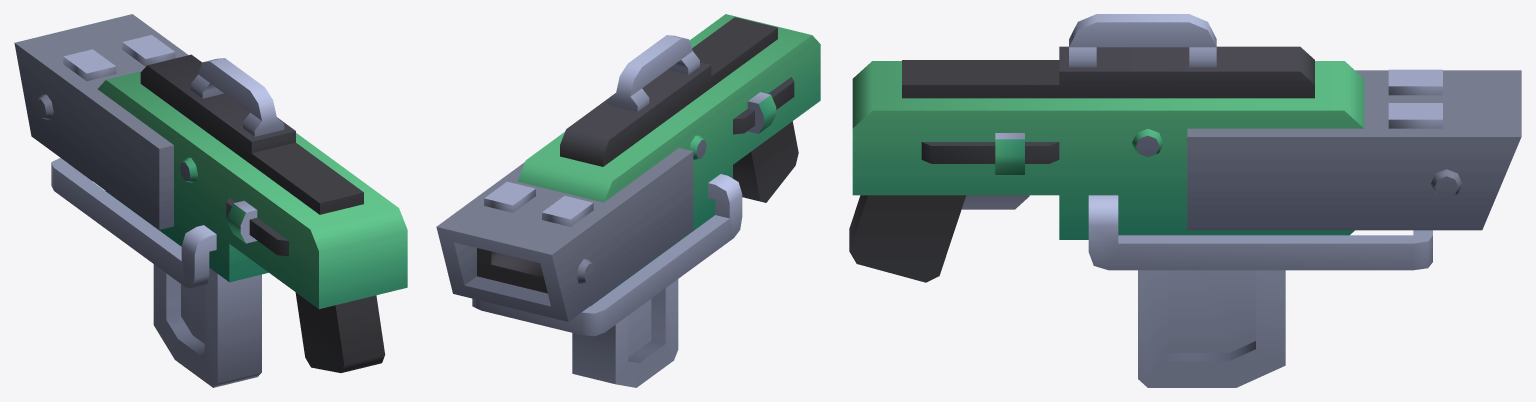
The model's file is blaster-r.glb.
3 views of the same model, side by side, from view 1: azimuth 30°, elevation 25°; view 2: azimuth 150°, elevation 25°; view 3: azimuth 270°, elevation 25° (orthographic). The views are drawn at different scales.
Visible parts, largest first — view 1: blaster-r, magazine; view 2: blaster-r, magazine; view 3: blaster-r, magazine.
Part boxes in pixels (bbox=[...]): blaster-r: bbox=[14, 14, 407, 372]; magazine: bbox=[153, 264, 261, 387]; blaster-r: bbox=[436, 14, 820, 336]; magazine: bbox=[572, 279, 678, 387]; blaster-r: bbox=[849, 14, 1521, 282]; magazine: bbox=[1138, 270, 1285, 387].
Size of the model in its own units: 0.18 by 0.4009 by 0.6834.
1 material, 1 textured.
